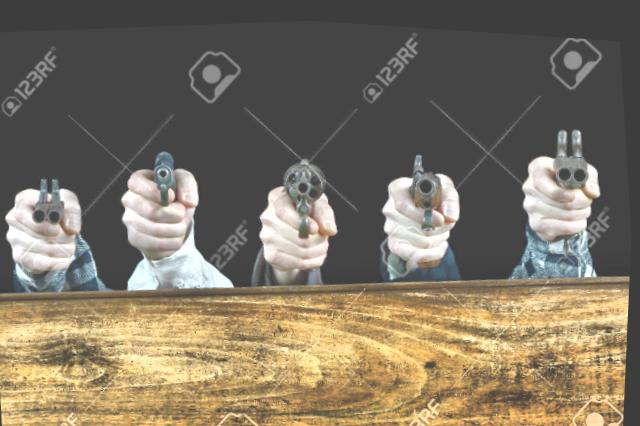pistol: (409, 145, 453, 268), (279, 149, 333, 247), (147, 147, 182, 212)
